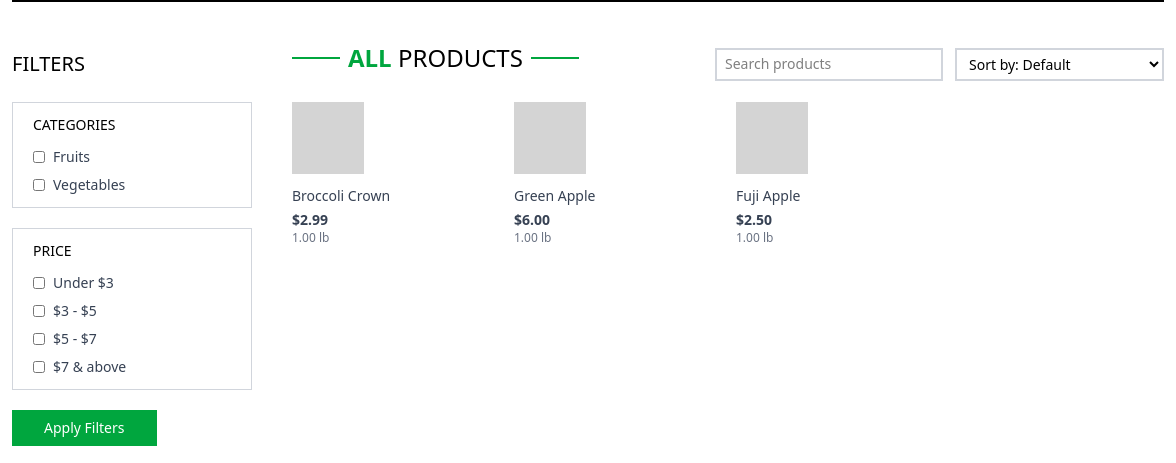
Test: Products search › says so when nothing matches, and clearing brings everything back
In the search field labelled "Search products": (829, 64) [717,50,941,78], type "mango"
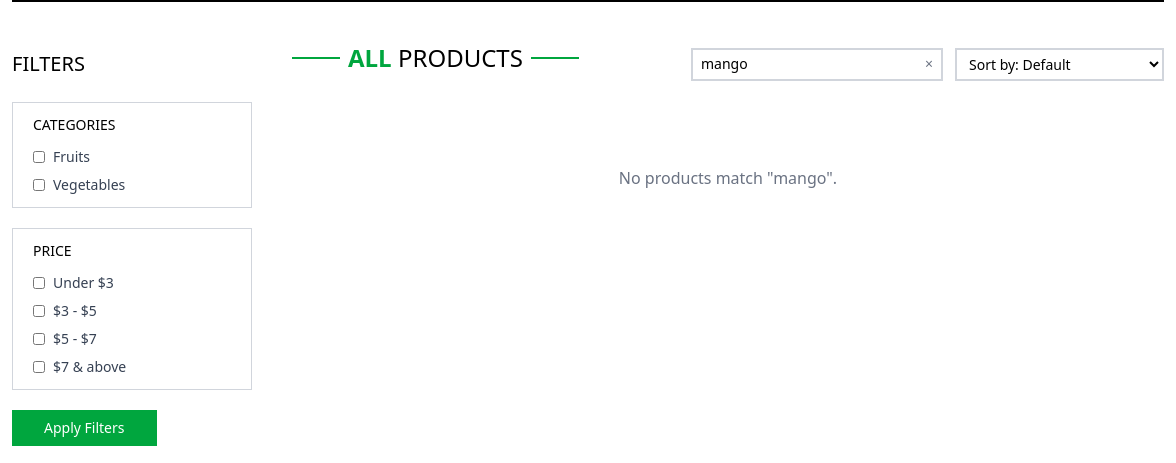
Expected: the text "No products match \"mango\"." is shown, [619,167,837,189]
Click the button named "Clear search": click(929, 64) [917,54,941,74]
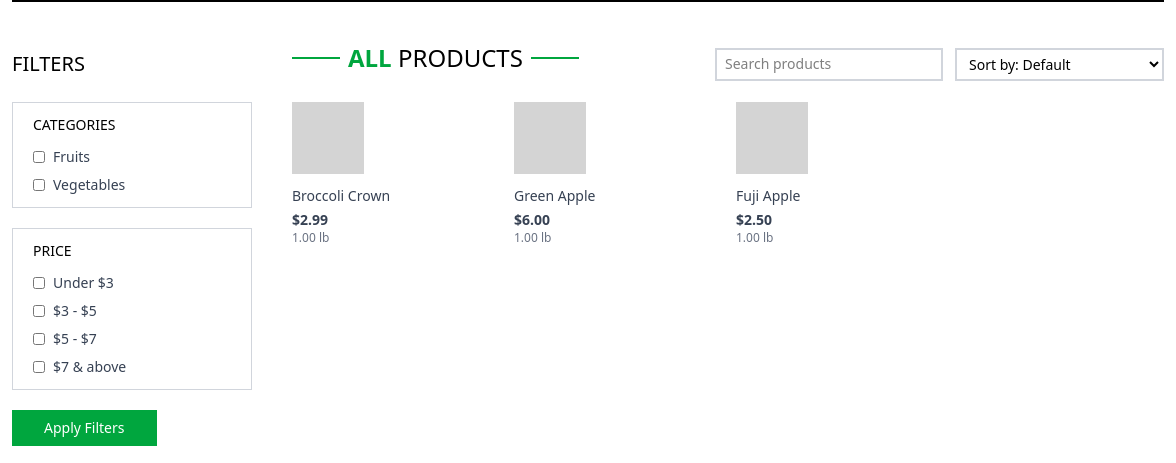
Expected: the search field labelled "Search products" is empty, [717,50,941,78]
Expected: the text "Broccoli Crown" is shown 3 times, [292,186,390,205]; [514,186,596,205]; [736,186,800,205]
